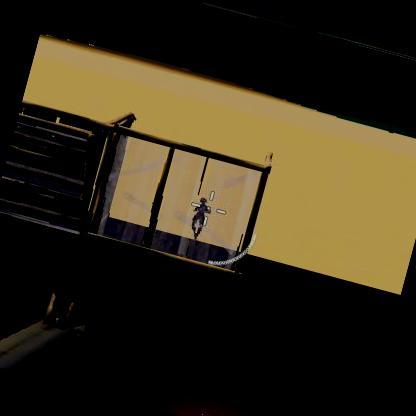person: (186, 198, 211, 242)
